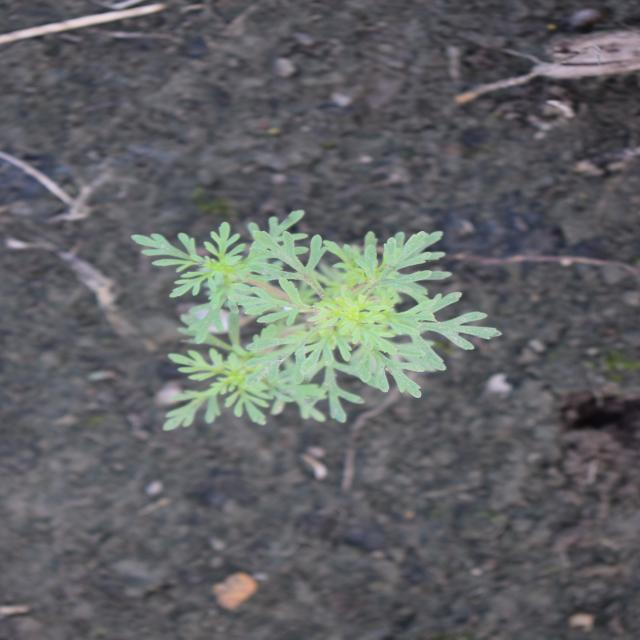Ragweed: (128, 208, 506, 433)
